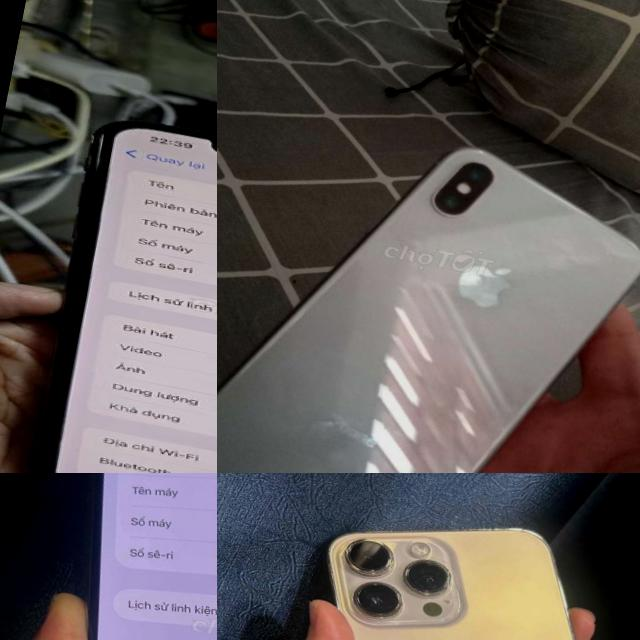gen_14: (252, 479, 640, 640), (0, 473, 217, 640)
gen_x_xs: (217, 149, 640, 473), (36, 122, 217, 473)
